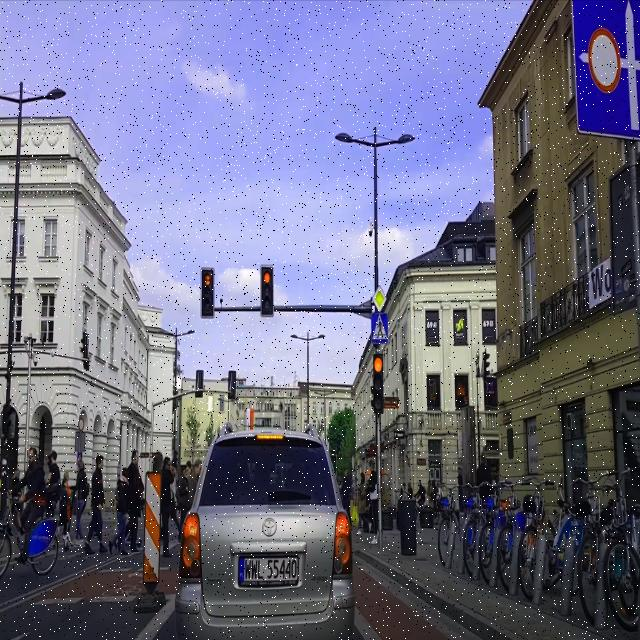Droga z pierwszenstwem: (372, 284, 388, 312)
Przejscie dla pieszych: (371, 312, 389, 344)
